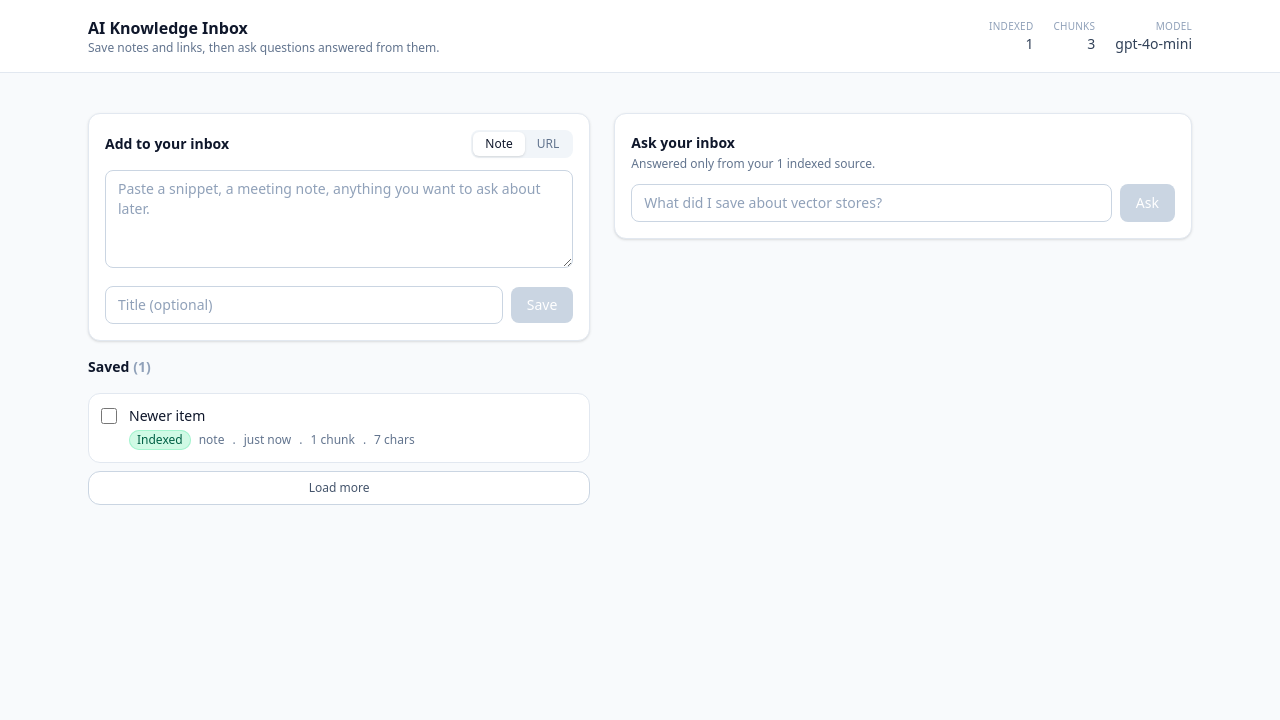
App › loads a second page on demand
expect the text "Newer item" is shown: met, box [129,406,205,425]
expect the text "Older item" is not shown: met
Click the button "Load more".
click(339, 488)  # box [88,471,590,505]
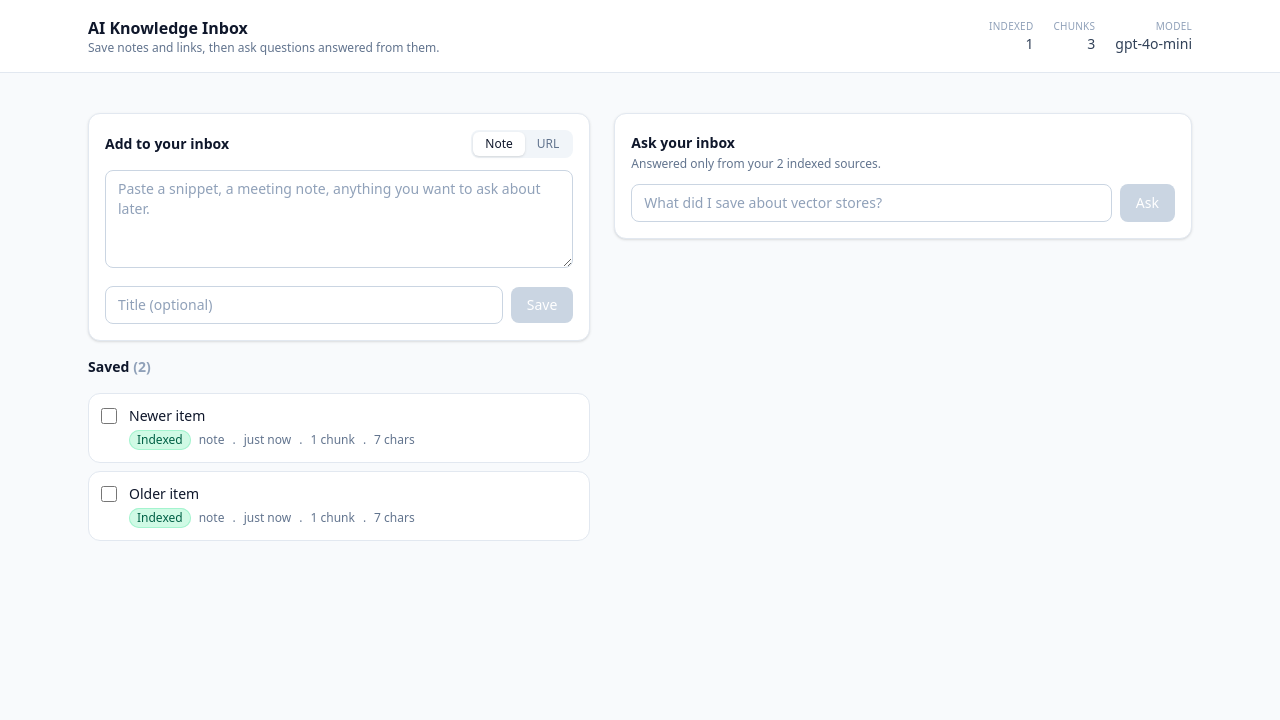
expect the text "Older item" is shown: met, box [129,484,199,503]
expect the button "Load more" is gone: met
